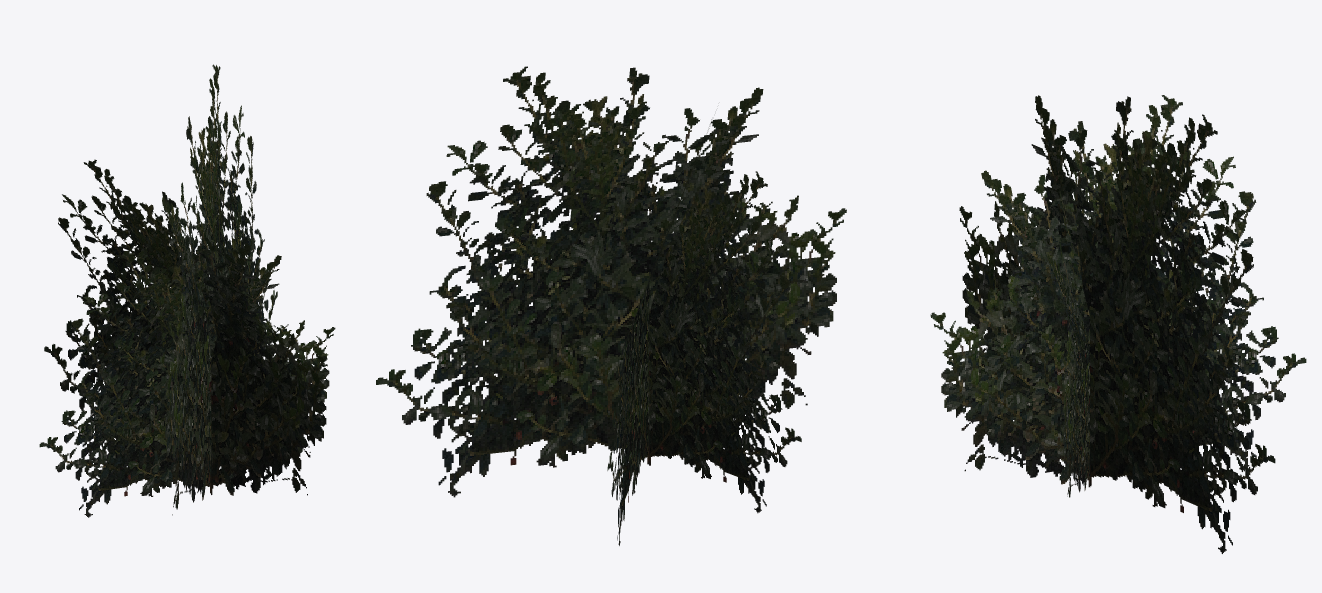
The model's file is fern_1.glb.
The picture shows the model from 3 angles, left to right: view 1: azimuth 30°, elevation 25°; view 2: azimuth 150°, elevation 25°; view 3: azimuth 270°, elevation 25°; orthographic projection. The views are drawn at different scales.
Parts seen in each view (by area): view 1: fern_1; view 2: fern_1; view 3: fern_1.
Part boxes in pixels (<box>): fern_1: <box>39,64,335,517</box>; fern_1: <box>376,66,846,545</box>; fern_1: <box>930,95,1306,553</box>.
Size of the model in its own units: 0.9733 by 1.15 by 1.04.
Materials: 1 (1 with a texture image).
